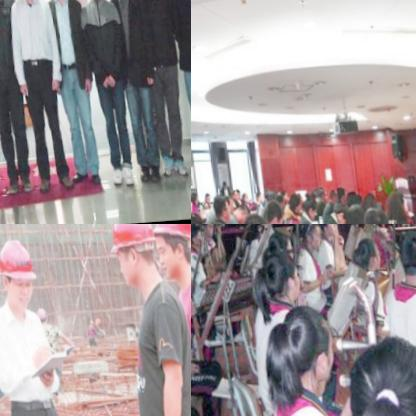head: (333, 330, 416, 416), (265, 301, 334, 393), (258, 251, 296, 305), (387, 230, 416, 283), (346, 235, 379, 276), (268, 228, 291, 260), (381, 189, 405, 218), (295, 224, 319, 253), (257, 198, 281, 224), (354, 207, 388, 224), (209, 195, 228, 223), (342, 202, 363, 224), (226, 200, 244, 224), (327, 202, 345, 224), (314, 224, 334, 243), (299, 198, 314, 221), (359, 193, 374, 213), (310, 184, 324, 205), (284, 192, 297, 214), (330, 185, 342, 207), (191, 224, 200, 246), (322, 186, 334, 202), (271, 194, 282, 210), (196, 224, 212, 235), (226, 187, 237, 201), (237, 192, 247, 205), (198, 192, 208, 204), (250, 190, 258, 201), (277, 189, 284, 200), (217, 181, 224, 191), (191, 192, 194, 203)
helmet: (97, 224, 169, 295), (0, 234, 45, 317), (142, 224, 191, 288)
